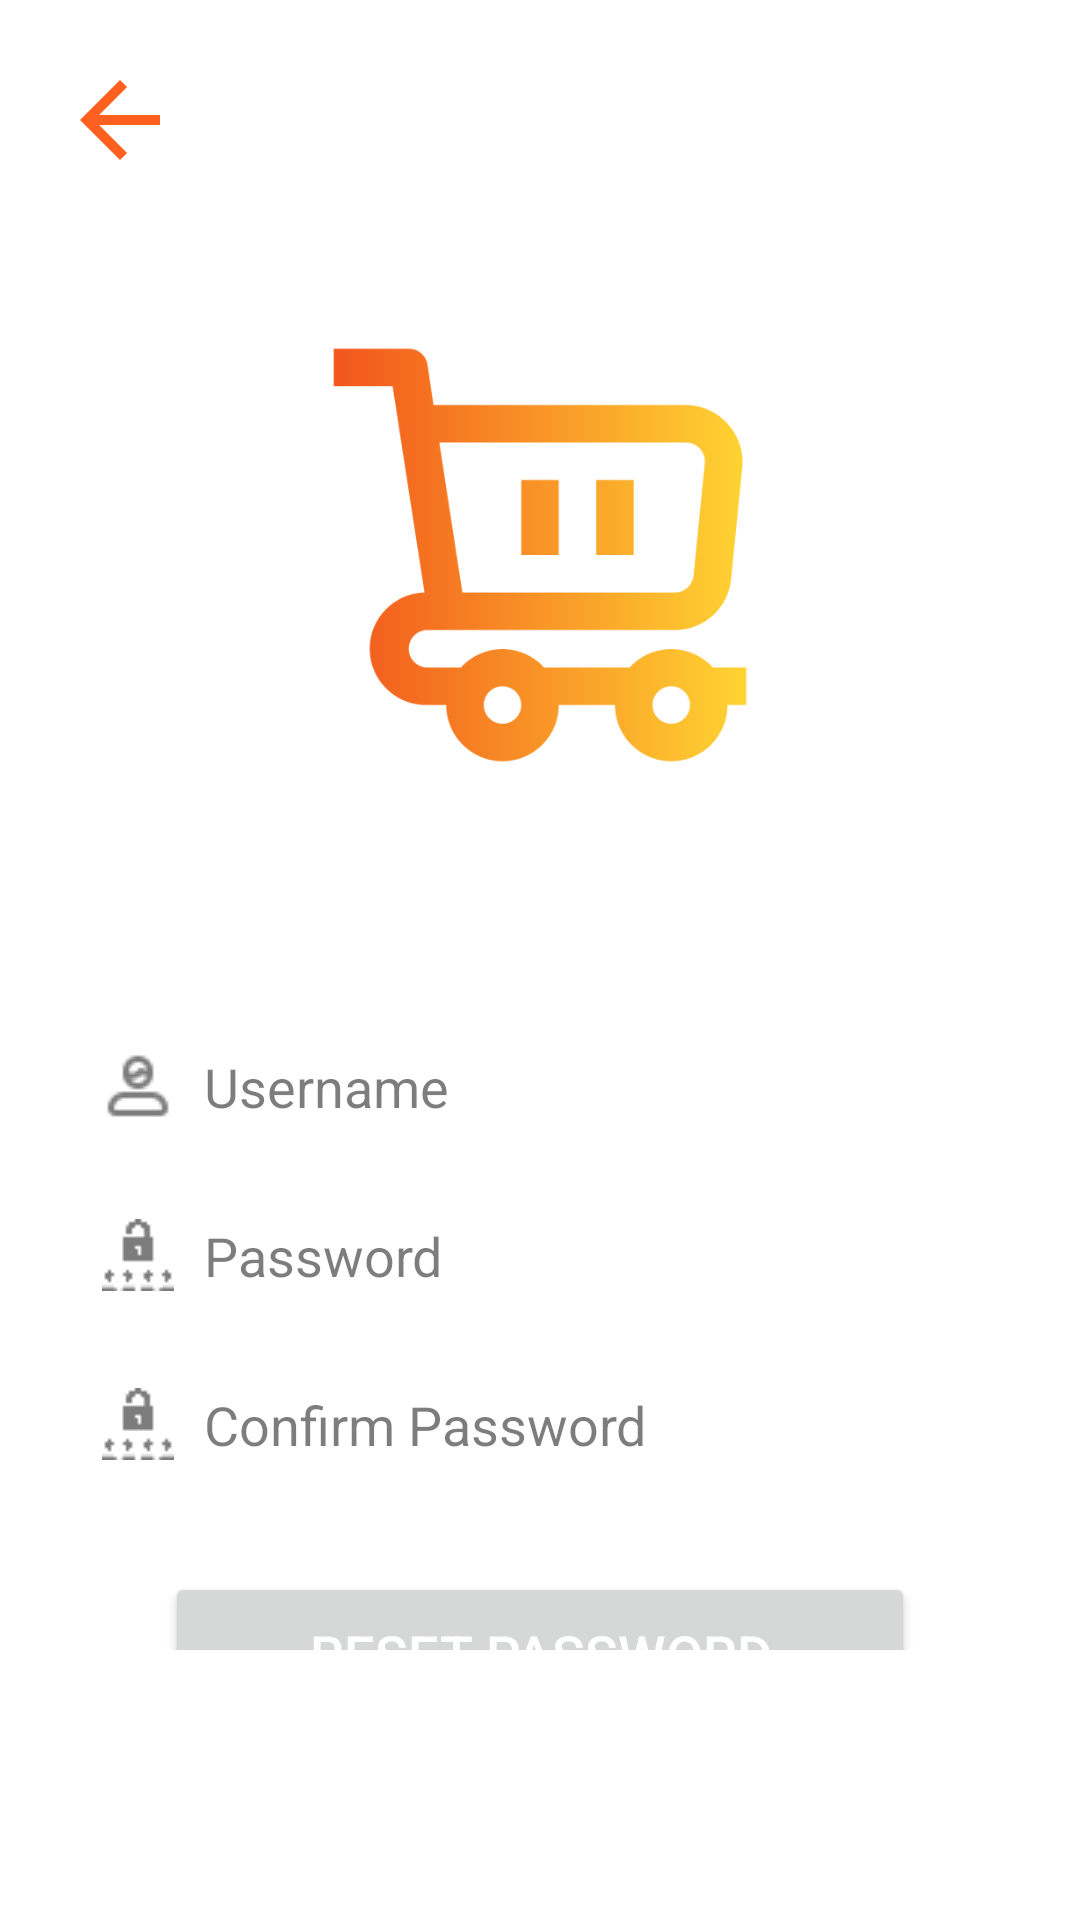

Screen size 1080w x 1920h. Icon name, then its box in pixels as (left=x1, top=y1, right=x2, bottom=y2):
arrow back: (left=80, top=80, right=160, bottom=160)
